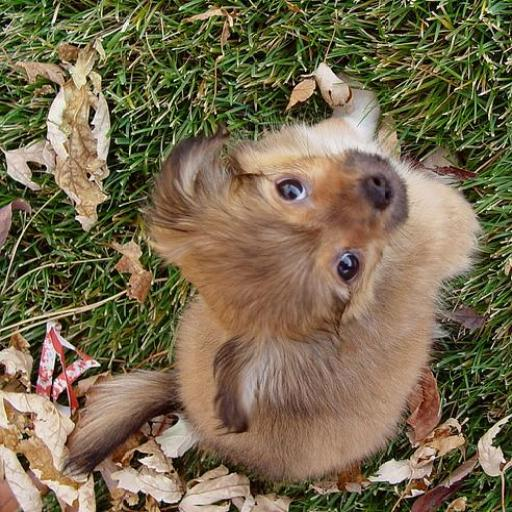dog_face: (147, 135, 419, 364)
